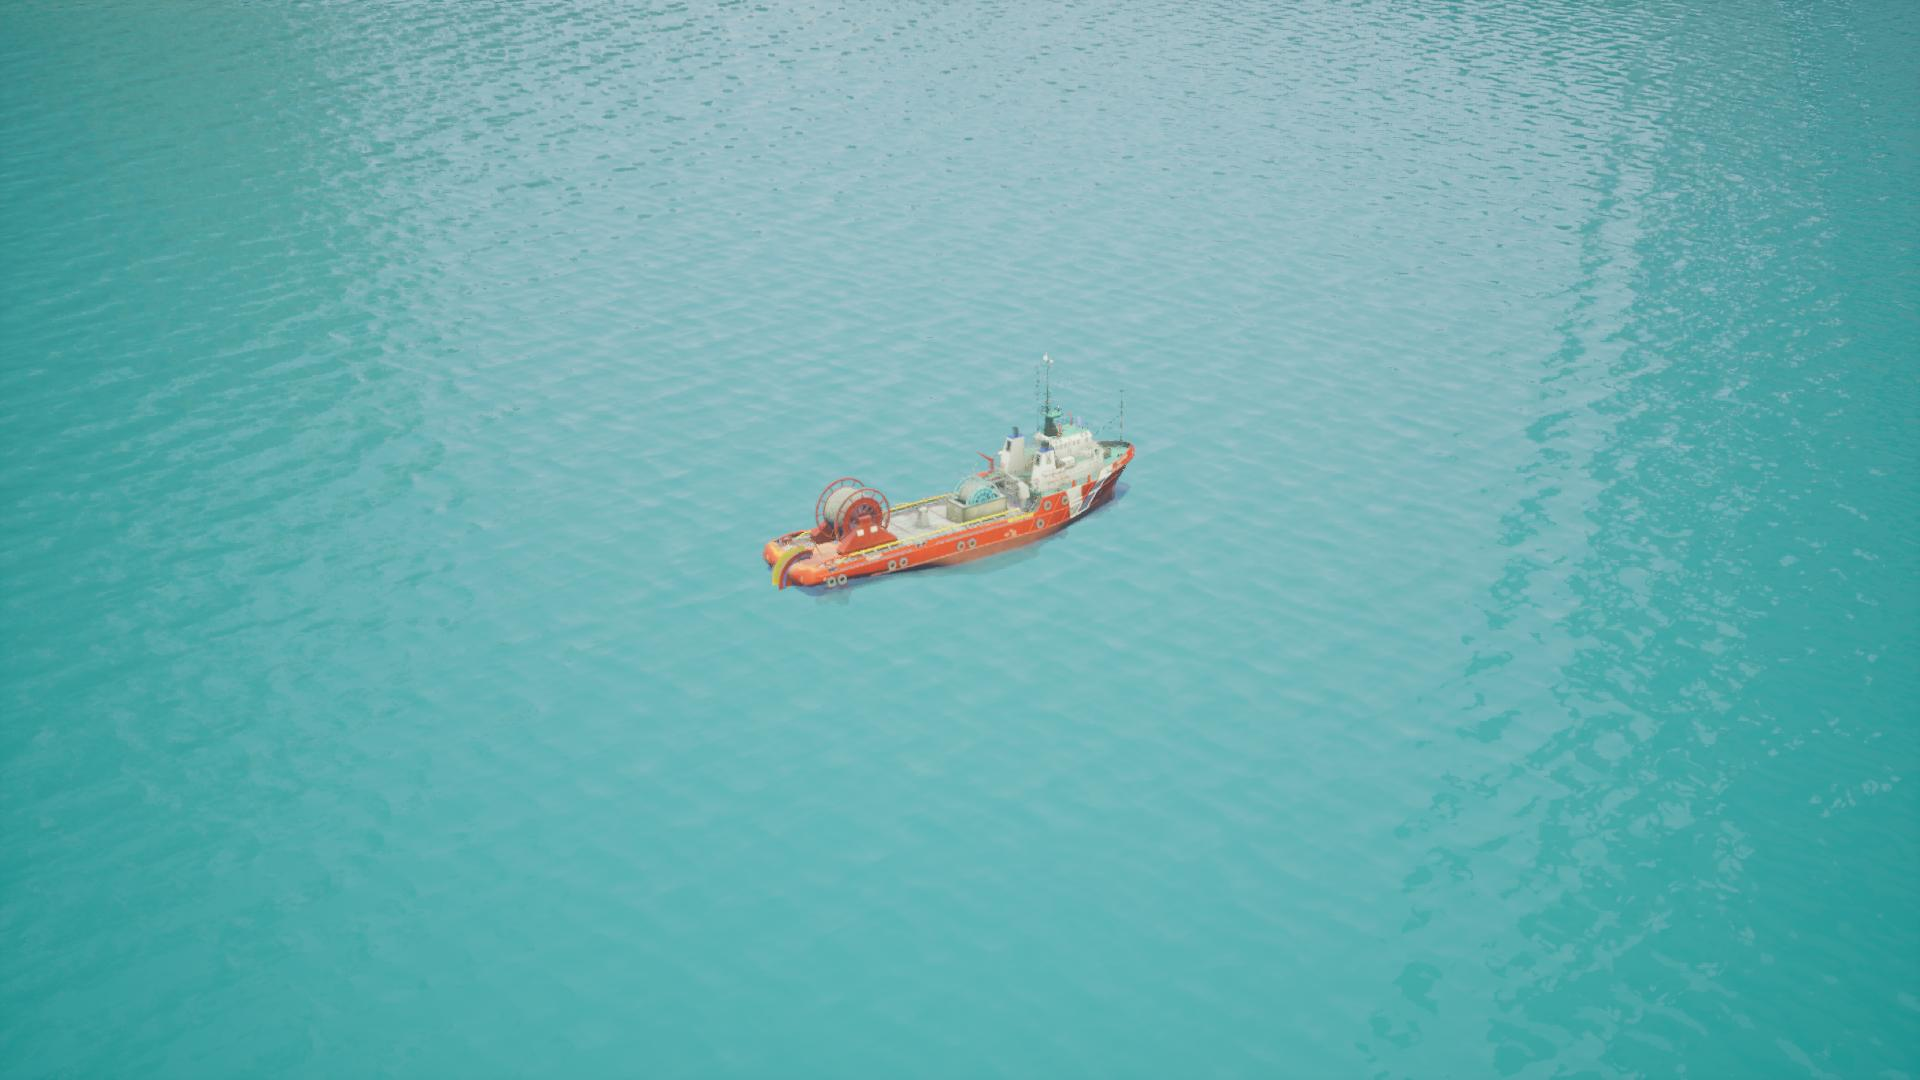Tug Boat: (770, 421, 1138, 593)
